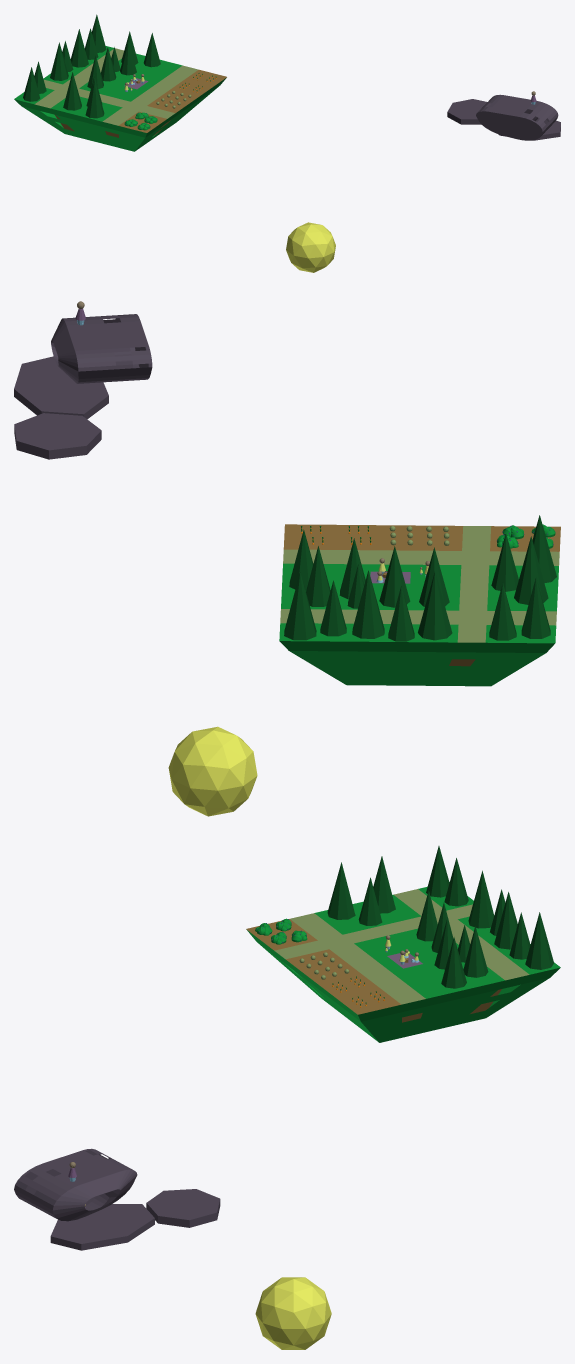
File: project3lesslight.gltf
3 views of the same model, one above another, from view 1: azimuth 30°, elevation 25°; view 2: azimuth 150°, elevation 25°; view 3: azimuth 270°, elevation 25° (orthographic). The views are drawn at different scales.
Parts seen in each view (by area): view 1: island, Cube, sun, Cylinder.008, Cone, Cone.005, Cone.007, Cone.008, Cone.001, Cone.014, Cone.015; view 2: island, sun, Cube, Cylinder.007, Cylinder.008, Cone.007, Cone.010, Cone.008, Cone, Cone.001, Cone.004, Cone.012 (+8 smaller); view 3: island, Cube, sun, Cylinder.007, Cylinder.008, Cone.010, Cone.005, Cone.007, Cone.008, Cone.015, Cone, Cone.012 (+4 smaller).
Boxes of the visible parts, x1,y1,x2,y2 form: island: [14, 46, 226, 151]; Cube: [476, 94, 558, 140]; sun: [286, 222, 335, 272]; Cylinder.008: [447, 99, 487, 124]; Cone: [63, 72, 81, 110]; Cone.005: [85, 80, 104, 118]; Cone.007: [50, 42, 68, 80]; Cone.008: [70, 29, 88, 67]; Cone.001: [23, 67, 40, 101]; Cone.014: [120, 41, 136, 75]; Cone.015: [143, 33, 160, 67]; island: [279, 524, 560, 686]; sun: [168, 726, 257, 816]; Cube: [51, 314, 152, 383]; Cylinder.007: [14, 356, 108, 419]; Cylinder.008: [14, 413, 101, 459]; Cone.007: [418, 571, 452, 640]; Cone.010: [284, 572, 316, 640]; Cone.008: [352, 570, 384, 638]; Cone: [514, 536, 548, 604]; Cone.001: [521, 577, 550, 638]; Cone.004: [379, 546, 410, 607]; Cone.012: [306, 546, 330, 606]; island: [246, 886, 560, 1042]; Cube: [14, 1148, 137, 1221]; sun: [255, 1277, 331, 1349]; Cylinder.007: [50, 1204, 154, 1250]; Cylinder.008: [146, 1189, 220, 1227]; Cone.010: [525, 912, 553, 969]; Cone.005: [327, 862, 355, 919]; Cone.007: [468, 870, 494, 928]; Cone.008: [494, 892, 517, 949]; Cone.015: [441, 937, 466, 988]; Cone: [373, 856, 395, 913]; Cone.012: [463, 926, 488, 977].
Bounding box in the file's own units: 75.95 × 39.15 × 56.93.
